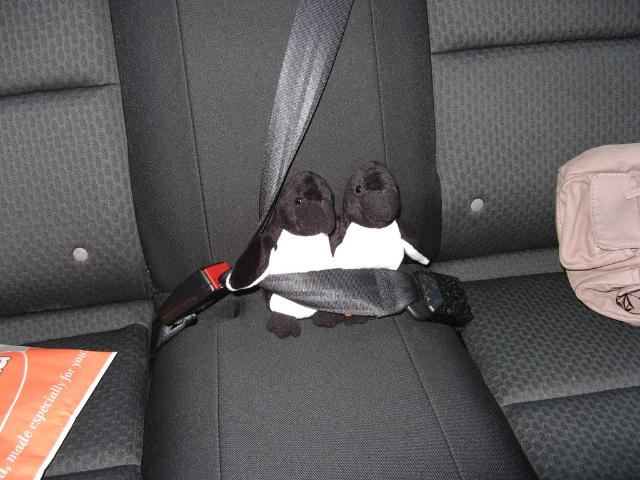Seatbelt: (150, 0, 470, 351)
